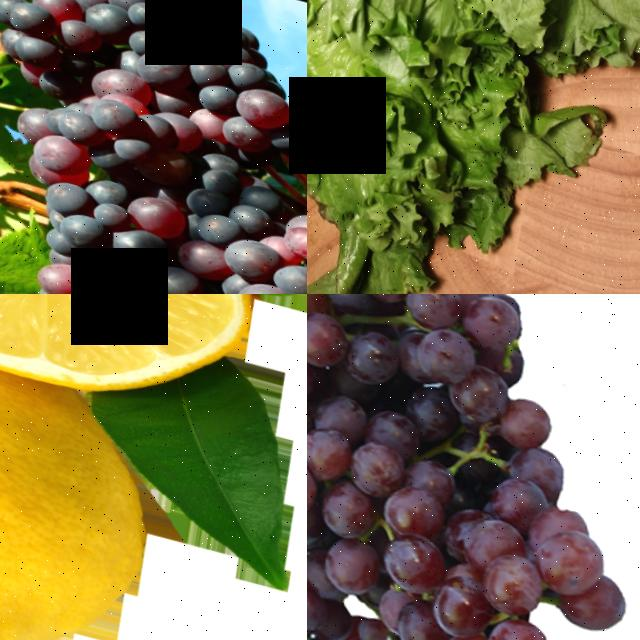grapes: (307, 294, 640, 640), (0, 0, 307, 213), (0, 131, 307, 294)
lemon: (0, 294, 160, 640), (0, 294, 284, 402)
lettuce: (307, 0, 640, 294)
